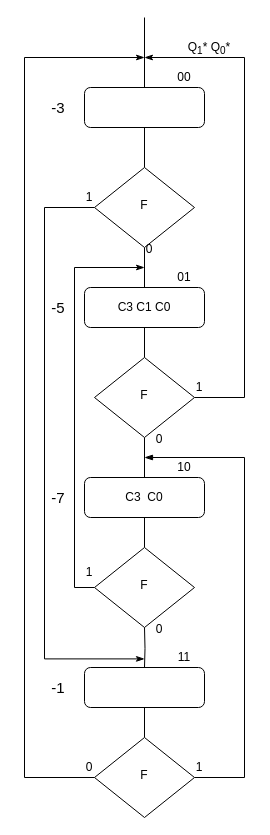
Some shapes in this 270 by 835 pixel diagram are drawn without their labels. Here are the shapes that lost their labels. From the top down, the centre of each, then its label:
At (x=144, y=107): "C3 C2 C0".
At (x=144, y=687): "C3 C2 C1 C0".
